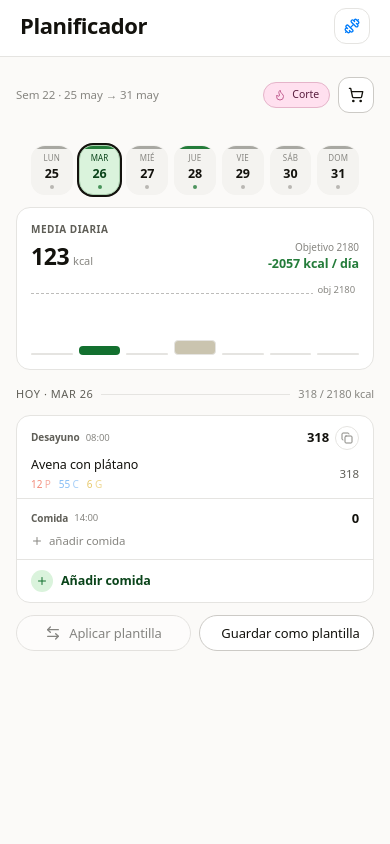
Test: PlanificadorPage — mobile day selection › copies the meal of the selected day, not of today
Click the button "jue 28". click: coordinates (195, 170)
box: [174,145,216,195]
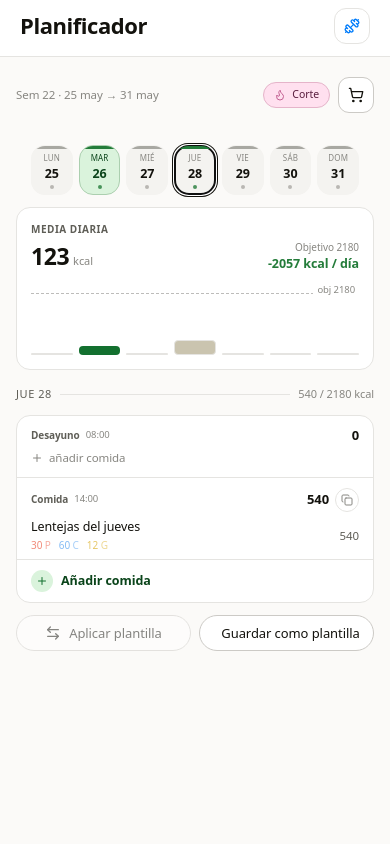
Click the button named "copiar comida a otros días". click: coordinates (347, 500)
box: [335,488,359,512]
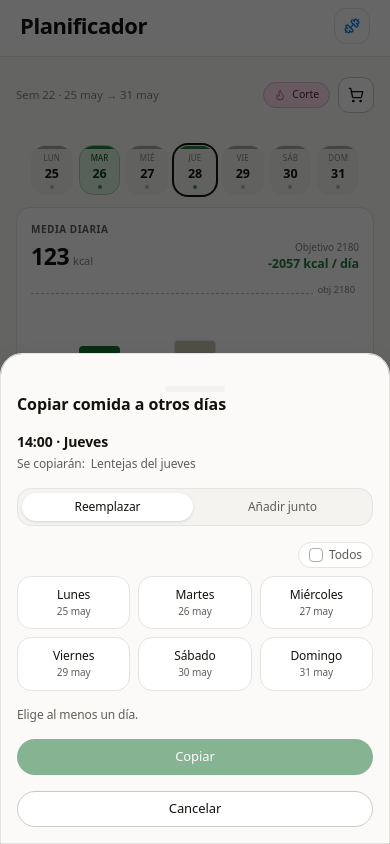
Expected: the checkbox labelled "Martes 26 may" is shown, [138,576,252,630]
